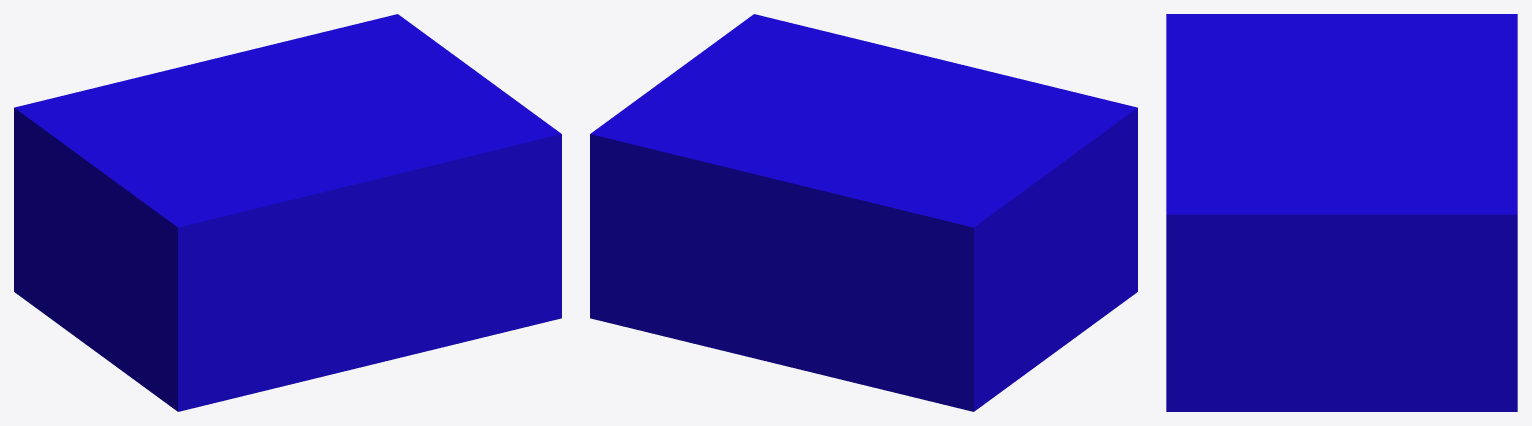
Rendered from room.glb.
3 renders of one model, left to right at view 1: azimuth 30°, elevation 25°; view 2: azimuth 150°, elevation 25°; view 3: azimuth 270°, elevation 25°, orthographic. The views are drawn at different scales.
Visible parts, largest first — view 1: Cube; view 2: Cube; view 3: Cube.
Boxes of the visible parts, x1=… form: Cube: x1=14, y1=14, x2=561, y2=411; Cube: x1=590, y1=14, x2=1137, y2=411; Cube: x1=1166, y1=14, x2=1517, y2=411.
Size of the model in its own units: 401 by 185 by 297.
